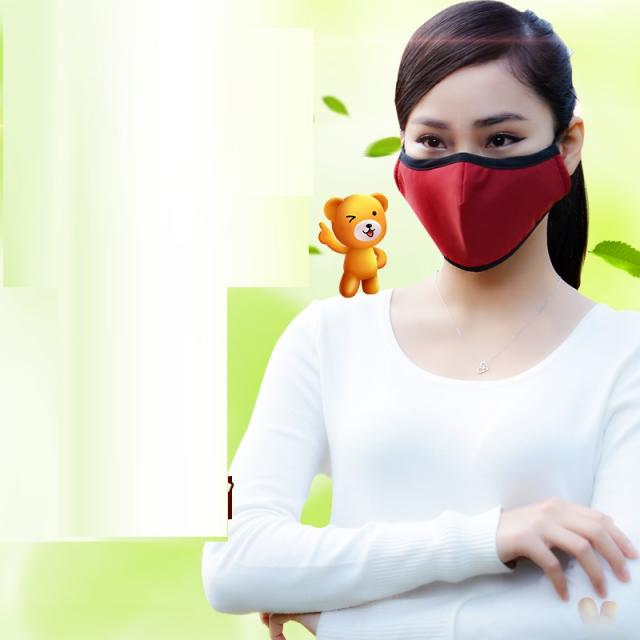mask: (398, 61, 558, 262)
